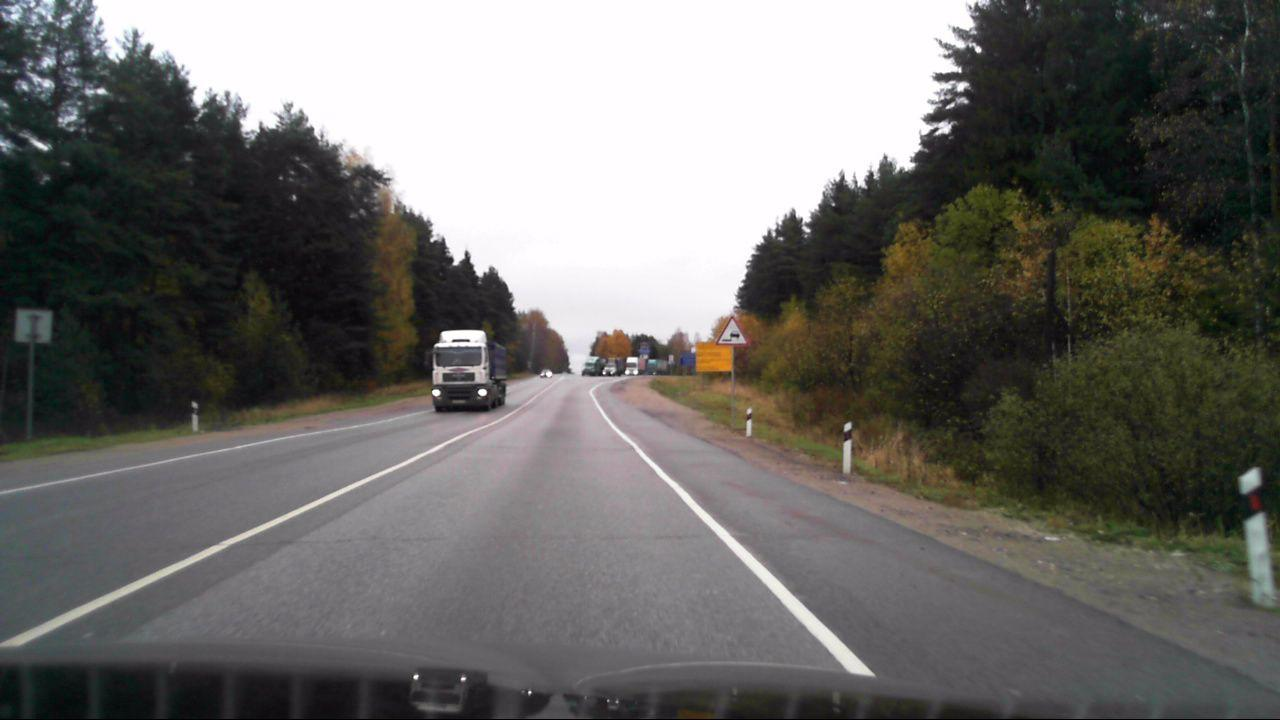1_19: (717, 316, 747, 345)
